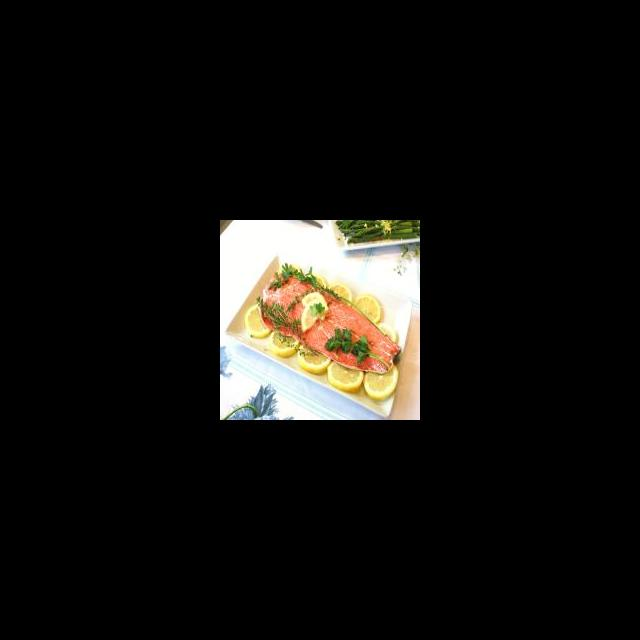ca hoi: (257, 270, 403, 376)
